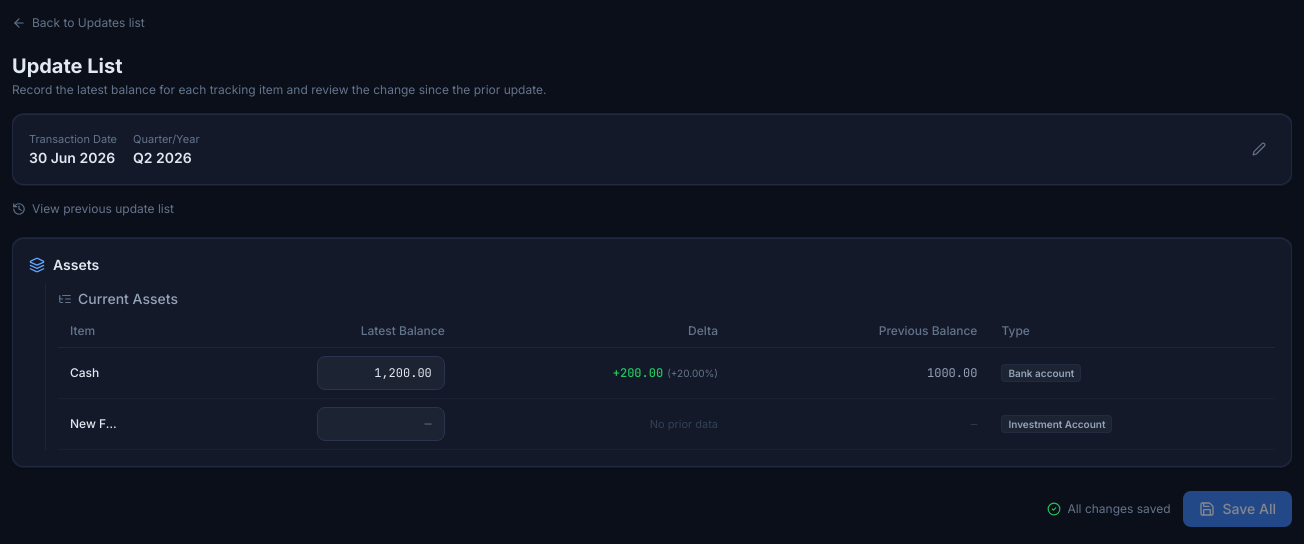
Scenario: UpdateTrackingListDetailPage — balance editing and save › preserves decimals and negative numbers while comma-formatting
The width and height of the screenshot is (1304, 544).
Replace the text in the field named "Latest balance for Cash" with "-1500000.5" at (381,372), box [317,356,445,390]
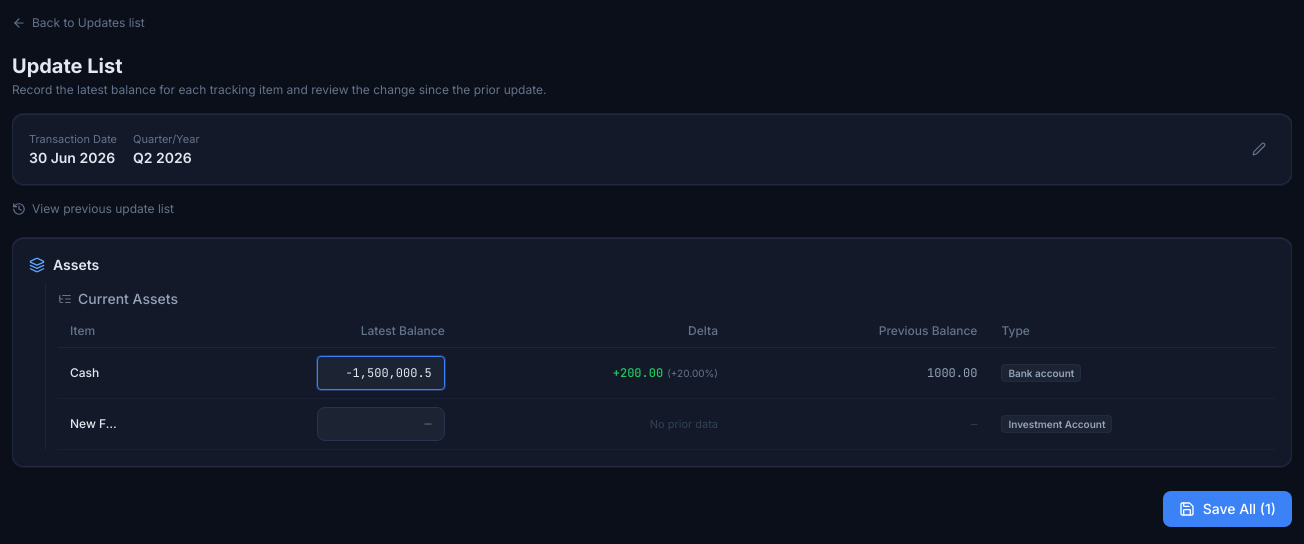
Expected: the field named "Latest balance for Cash" holds "-1,500,000.5", [317,356,445,390]
